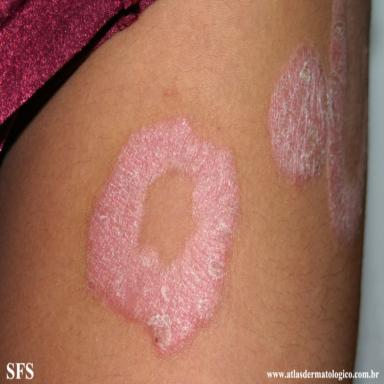Psoriasis: (85, 116, 244, 359), (269, 1, 367, 242), (140, 173, 234, 264)
